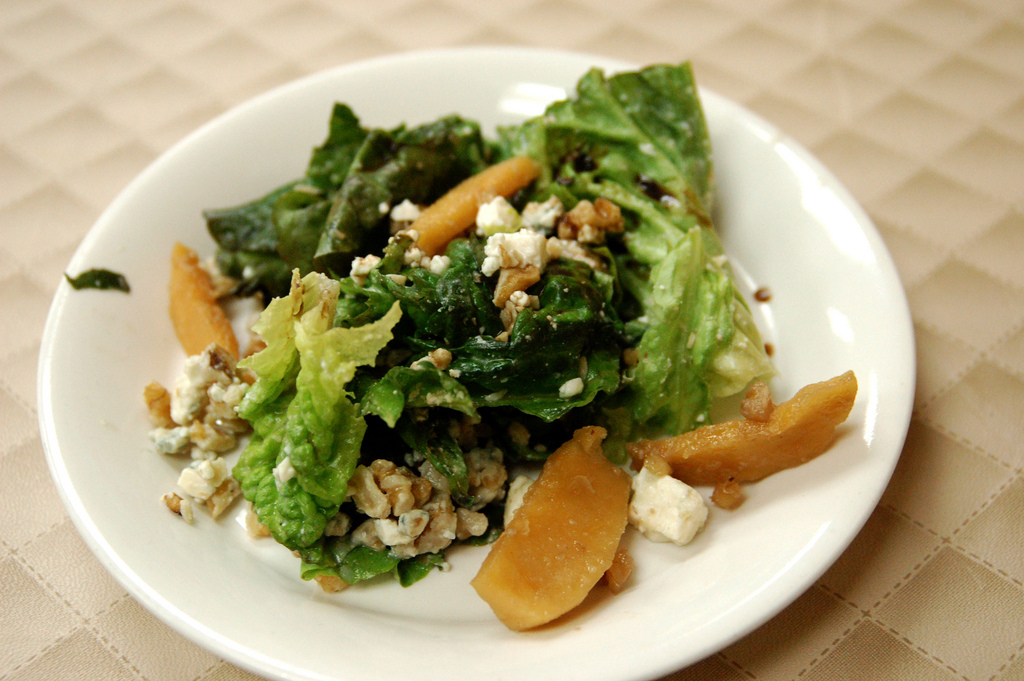chopped lettuce: (536, 87, 748, 421), (313, 252, 661, 416), (246, 193, 366, 580), (228, 115, 472, 278)
